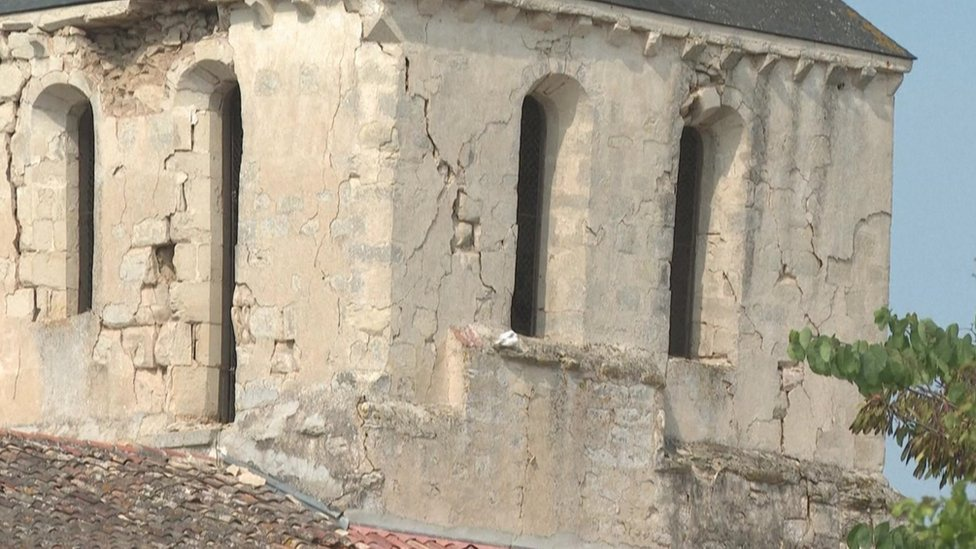crack: (447, 212, 488, 281), (420, 135, 467, 195), (395, 52, 430, 124), (6, 75, 31, 175), (3, 191, 35, 255)
